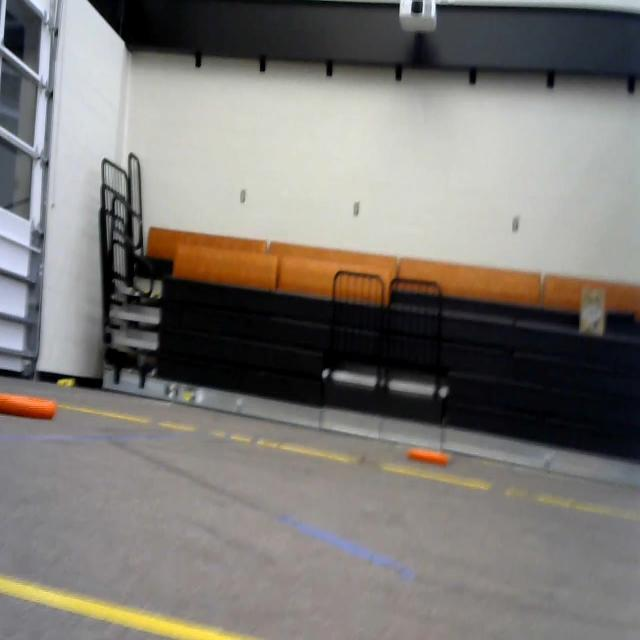note: (0, 388, 64, 434), (397, 429, 458, 475)
